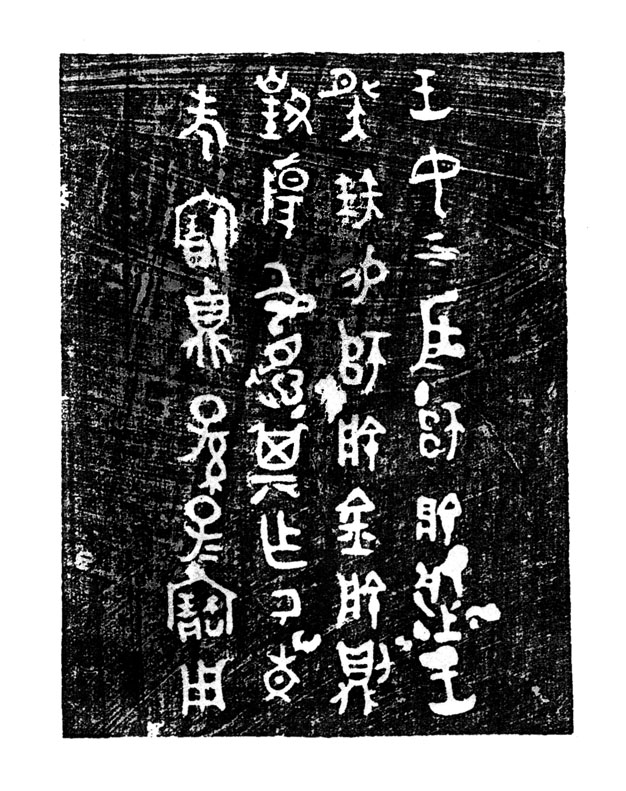char: (402, 551, 502, 723), (146, 395, 245, 565), (244, 264, 318, 418), (127, 569, 248, 650), (157, 72, 250, 172), (154, 281, 250, 377), (151, 190, 255, 270), (234, 524, 311, 627), (234, 418, 321, 507), (234, 50, 314, 143), (388, 45, 472, 130), (399, 389, 481, 472), (310, 49, 381, 143), (402, 139, 475, 225), (325, 326, 409, 397), (406, 285, 476, 369), (319, 478, 386, 562), (326, 641, 398, 719), (145, 660, 233, 721), (313, 566, 399, 625), (403, 488, 492, 545), (255, 632, 322, 707), (329, 410, 393, 488), (247, 150, 303, 237), (327, 253, 395, 313), (325, 164, 379, 234), (397, 230, 473, 268)
